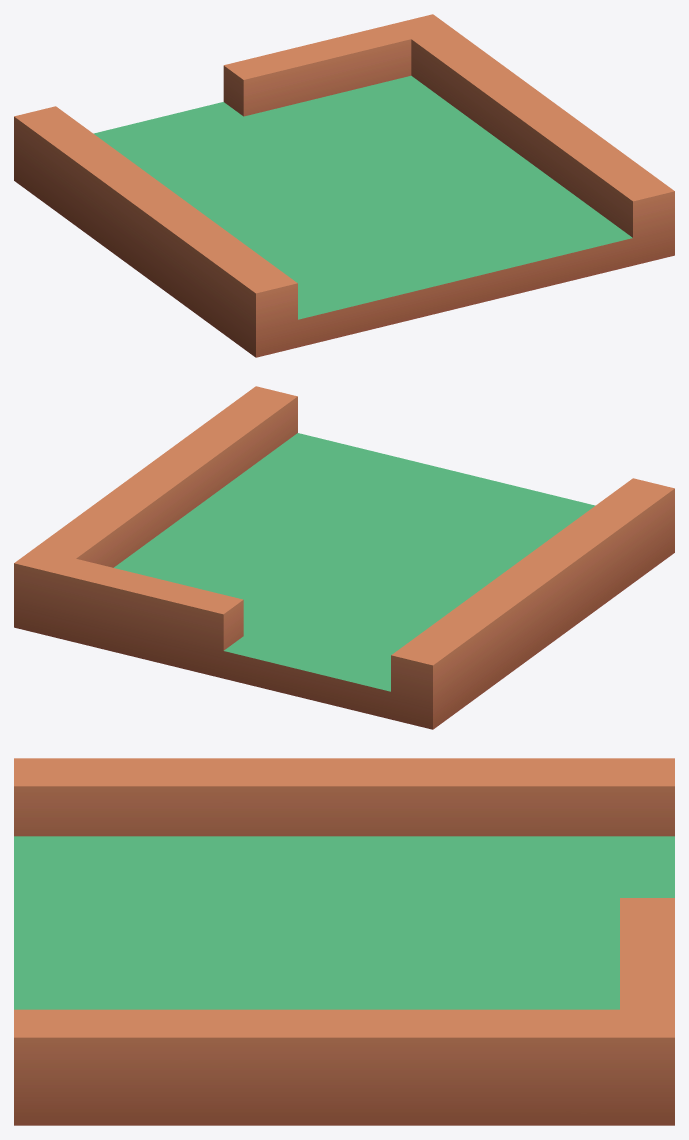
The model's file is wall-left.glb.
The picture shows the model from 3 angles, top to bottom: view 1: azimuth 30°, elevation 25°; view 2: azimuth 150°, elevation 25°; view 3: azimuth 270°, elevation 25°; orthographic projection. The views are drawn at different scales.
Parts seen in each view (by area): view 1: wall-left; view 2: wall-left; view 3: wall-left.
Boxes of the visible parts, x1,y1,x2,y2 form: wall-left: (14, 14, 674, 357); wall-left: (14, 386, 674, 729); wall-left: (14, 758, 674, 1125).
Bounding box in the file's own units: 0.9999 × 0.1466 × 0.9999.
1 material, 1 textured.
